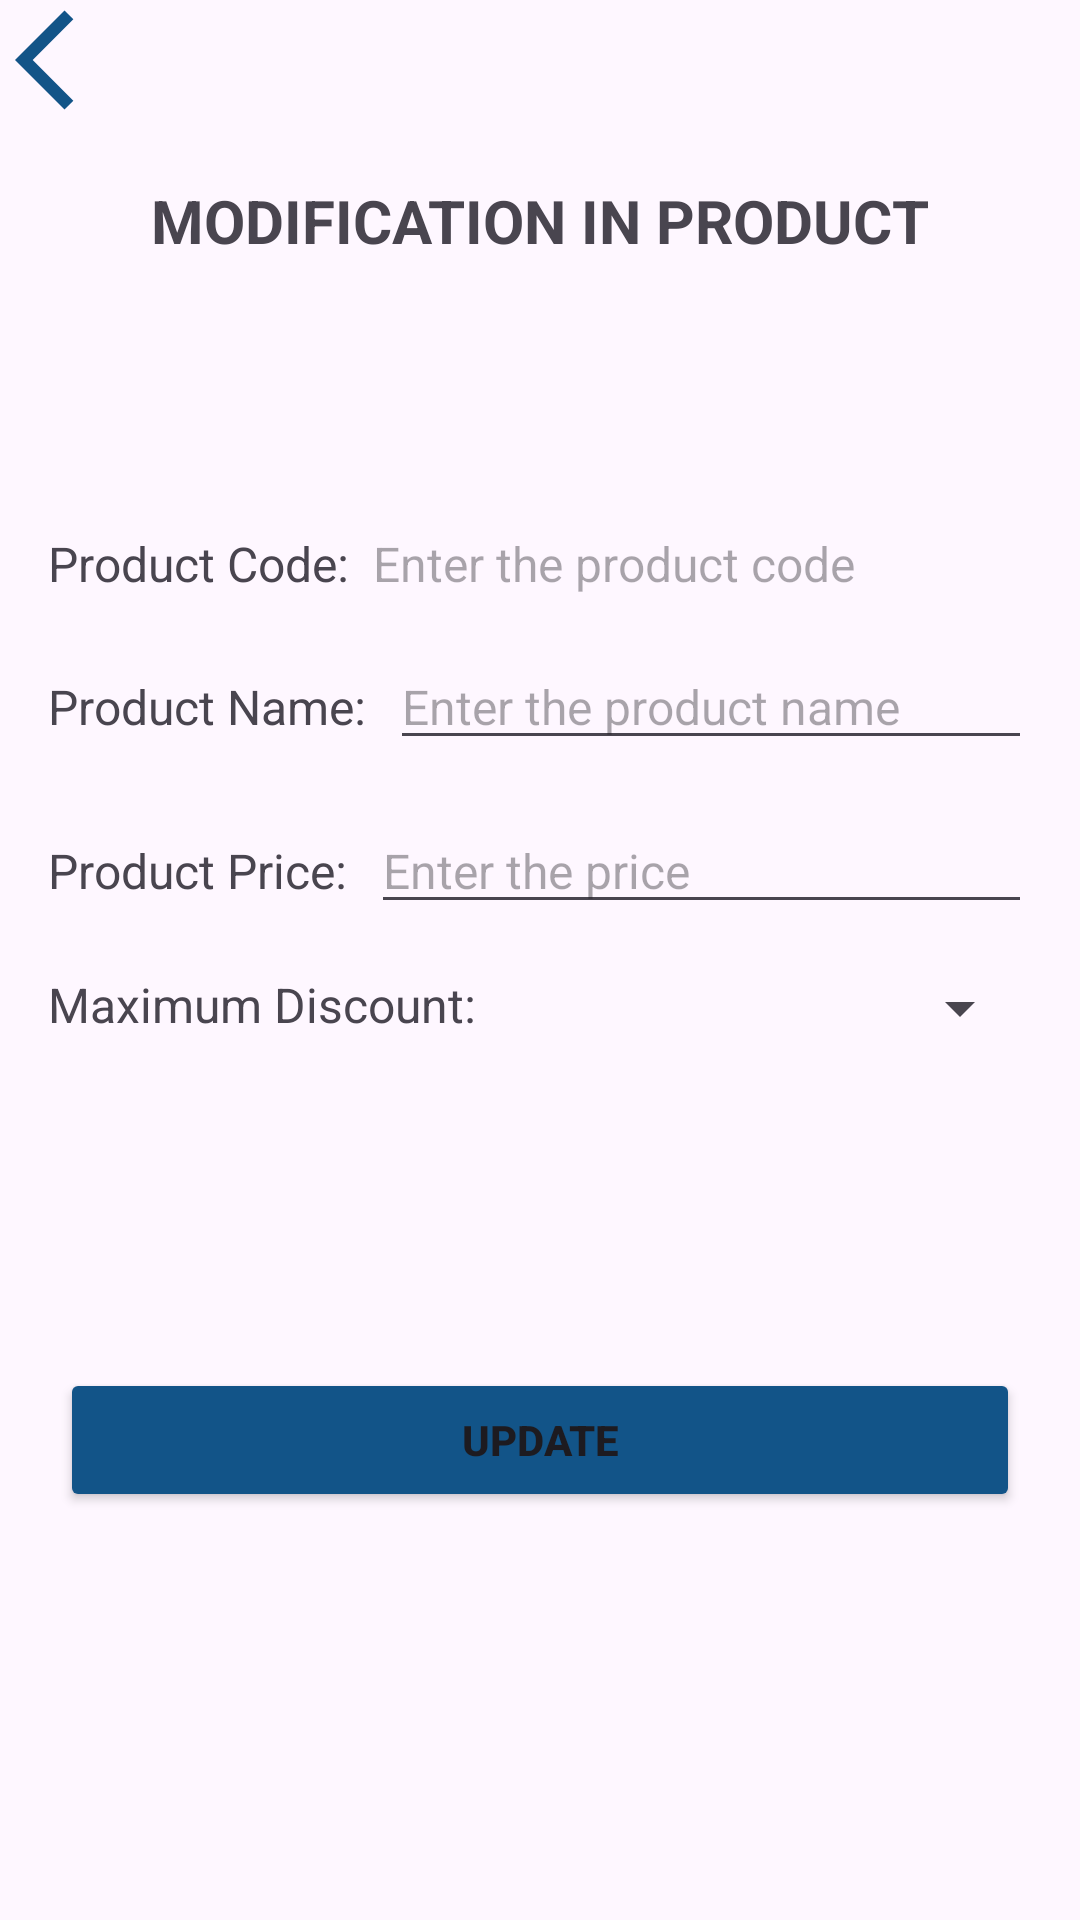

Icon bounding boxes for this 1080 × 1920 phone screenshot, format (x1, y1, x2, y2):
arrow back: (15, 10, 74, 110)
